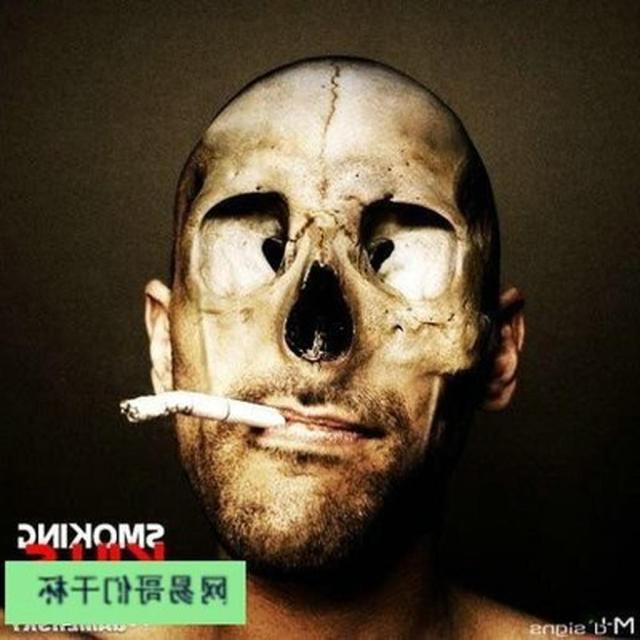smoking: (119, 388, 289, 431)
